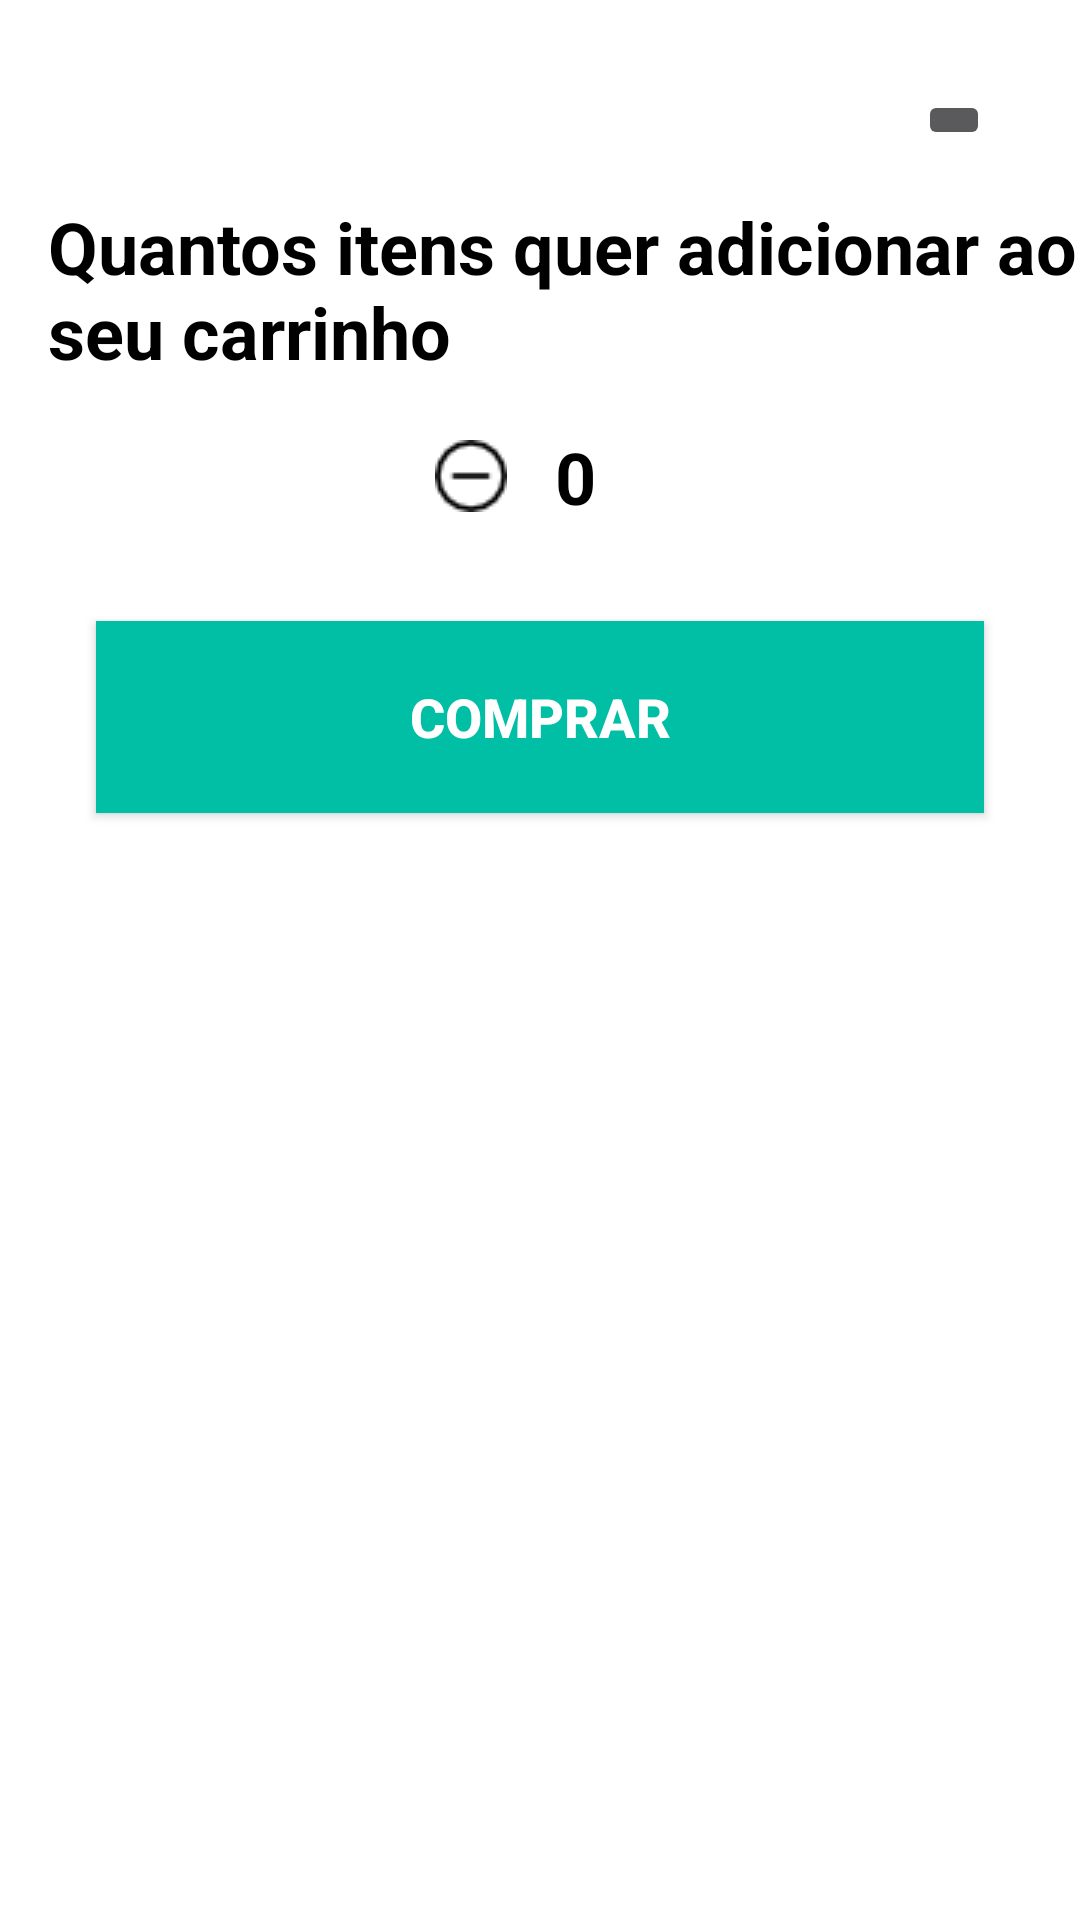

Screen size 1080 × 1920. Icon name, then its box in pixels as (x1, y1, x2, y2):
less: (435, 440, 507, 512)
